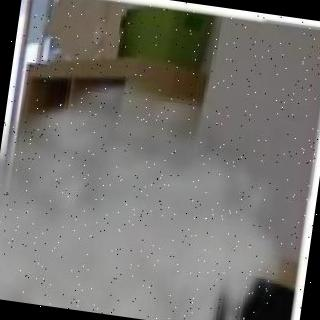smoke: (0, 87, 290, 320)
